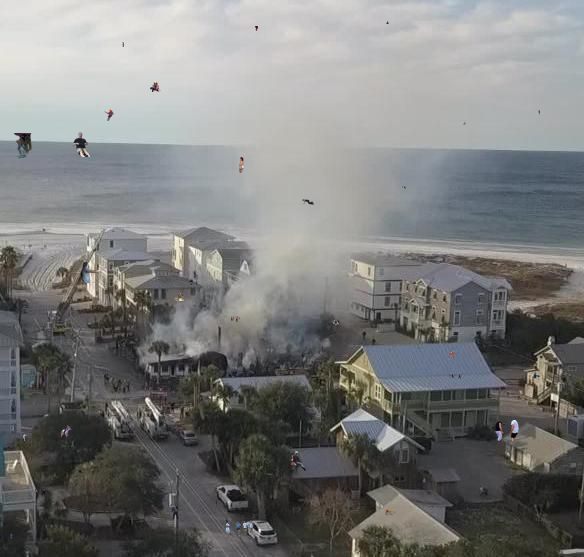Human: (495, 420, 519, 441), (80, 262, 104, 283), (226, 520, 254, 538), (72, 132, 92, 157), (289, 451, 314, 471), (13, 133, 32, 159), (385, 505, 401, 516), (61, 425, 72, 438), (189, 270, 198, 285), (170, 504, 179, 519), (150, 81, 161, 92), (104, 109, 114, 121), (173, 292, 184, 301), (33, 489, 48, 495), (179, 405, 185, 419), (239, 157, 244, 173), (301, 199, 314, 205), (533, 372, 540, 383), (449, 374, 462, 379), (448, 351, 457, 358), (479, 485, 484, 497), (333, 319, 340, 327), (231, 316, 240, 322), (258, 322, 267, 326), (9, 533, 13, 542), (251, 26, 258, 31), (23, 434, 27, 441), (402, 186, 406, 189), (413, 280, 416, 284), (463, 121, 466, 125), (498, 210, 503, 212), (538, 110, 540, 115), (241, 352, 243, 357), (122, 42, 124, 47), (462, 535, 464, 540), (386, 21, 389, 24)
